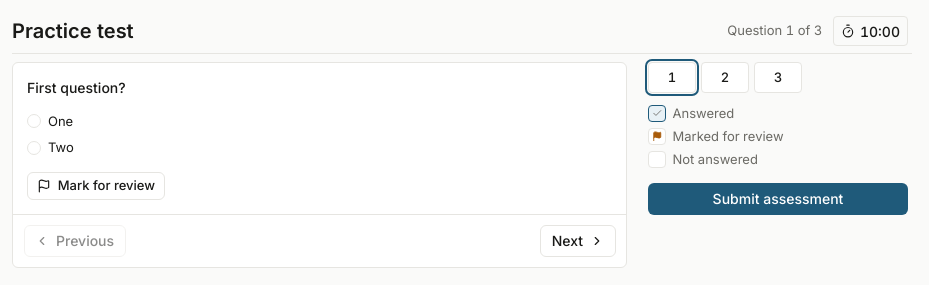
Test: TestPlayer › moves with Previous and Next and from the palette
Expected: the button "Previous" is disabled, [24,225,126,256]
Click the button "Next" at (578, 241), box [540,225,616,256]
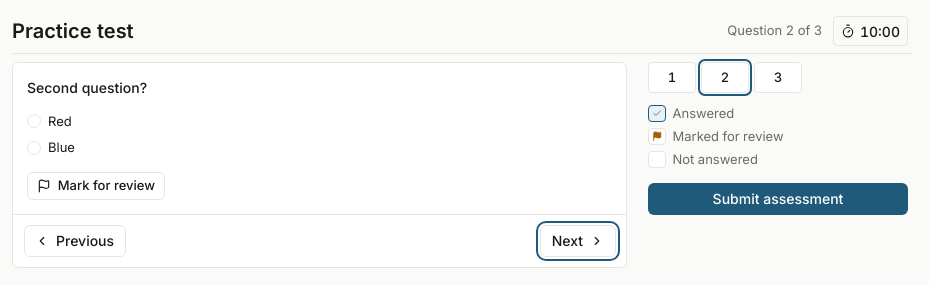
Expected: the text "Second question?" is shown, [27,78,147,96]
Click the button named "Question 3" at (778, 77), box [754,62,802,93]
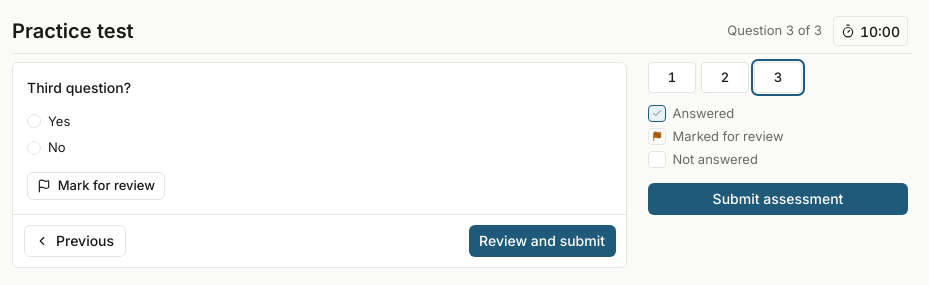
Expected: the text "Third question?" is shown, [27,78,131,96]
Expected: the button "Next" is gone
Expected: the button "Review and submit" is shown, [469,225,616,256]
